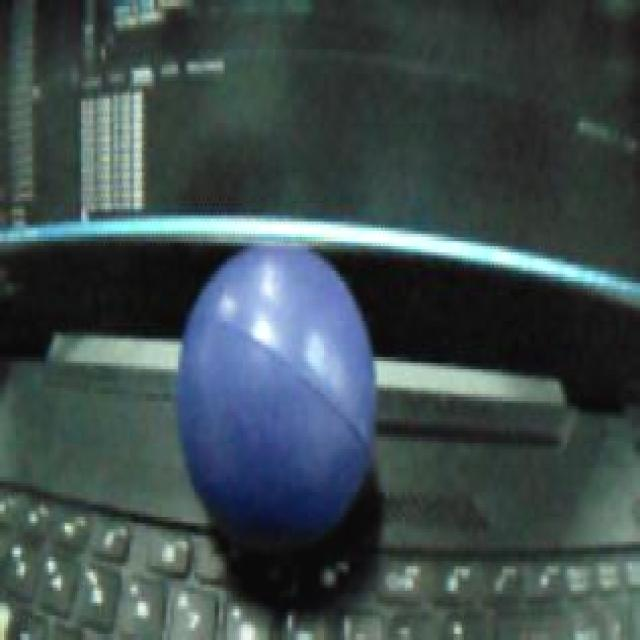BallPurple: (176, 242, 376, 536)
